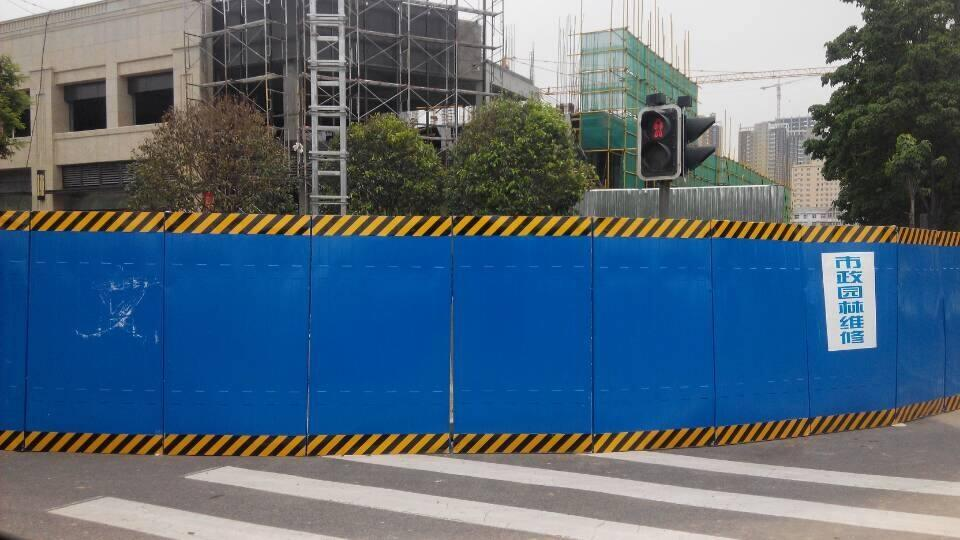sign: (10, 193, 960, 462)
